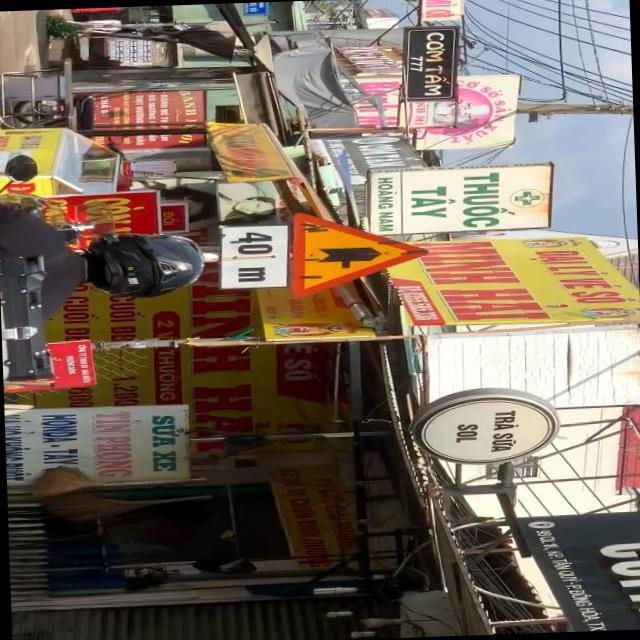W-207b: (286, 211, 428, 295)
